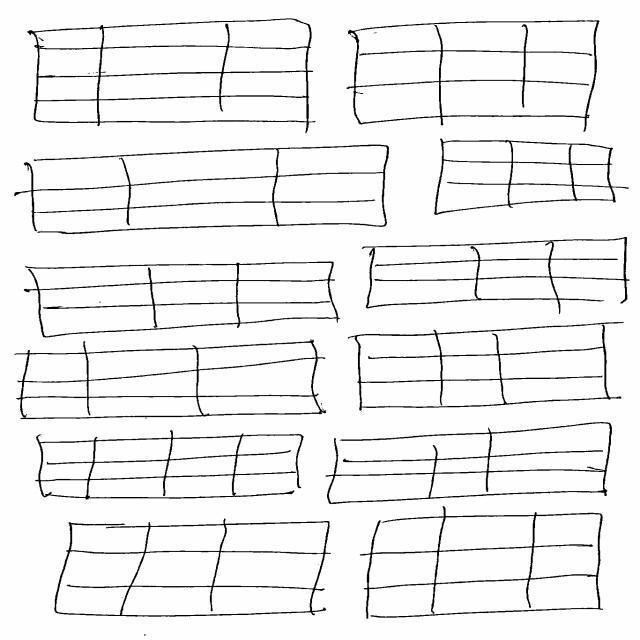table: (15, 145, 390, 235), (28, 19, 315, 135), (346, 21, 600, 133), (361, 507, 604, 619), (55, 520, 332, 618), (10, 340, 327, 420), (22, 259, 341, 338), (348, 323, 624, 412), (326, 423, 613, 505), (362, 238, 630, 320), (27, 427, 305, 500), (435, 140, 630, 216)
